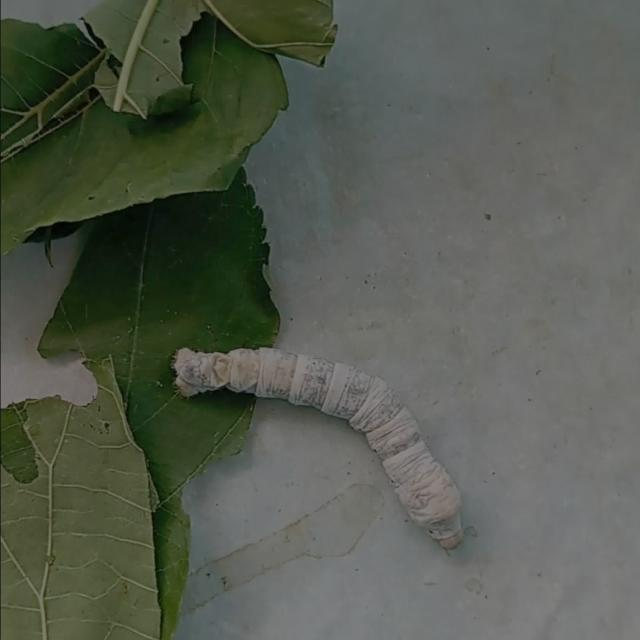Grasserie: (144, 296, 503, 632)
